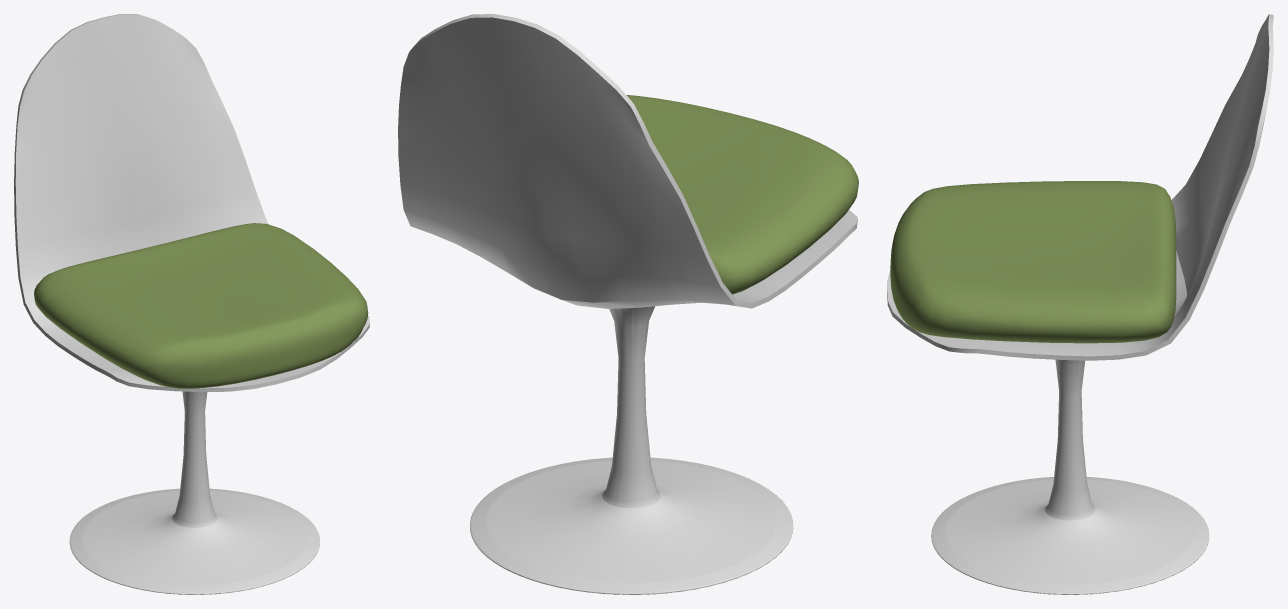
Rendered from sh_blend_swap_cc_0_sillablanca.glb.
3 views of the same model, side by side, from view 1: azimuth 30°, elevation 25°; view 2: azimuth 150°, elevation 25°; view 3: azimuth 270°, elevation 25° (orthographic). The views are drawn at different scales.
Bounding box in the file's own units: 0.505 × 0.85 × 0.584.
